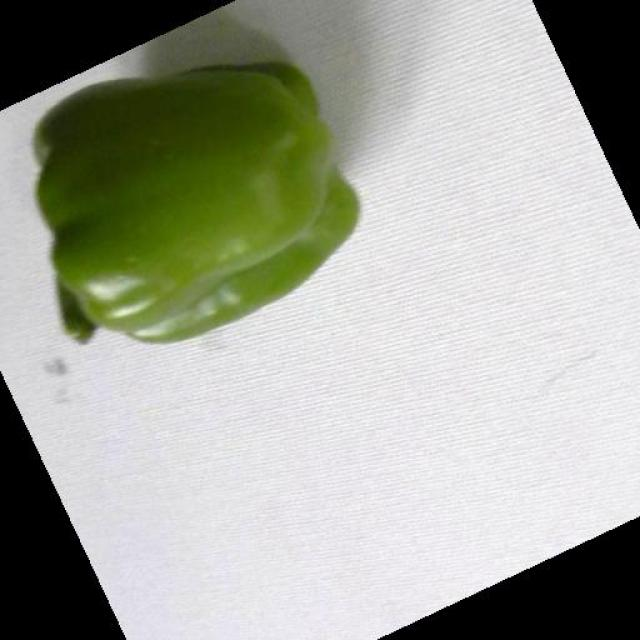Fresh_Capsicum: (21, 80, 382, 346)
